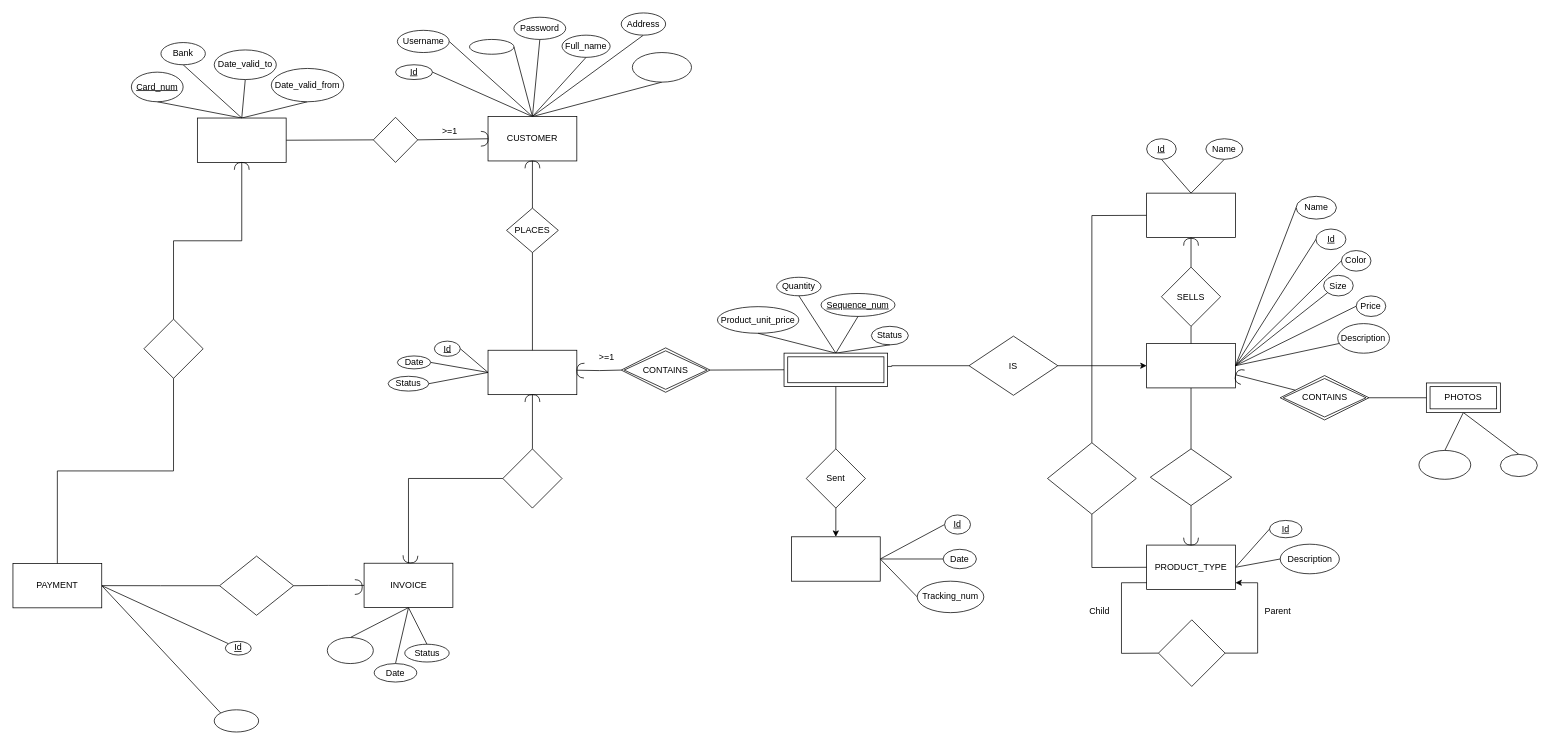
Some shapes in this 1550 by 745 pixel diagram are drawn without their labels. Each missing label, with the centre of its shape:
Amount: (x=236, y=720)
BELONGS_TO: (x=1191, y=477)
CREDIT_CARD: (x=241, y=139)
Email: (x=491, y=46)
HAS: (x=395, y=139)
HIERARCHY: (x=1191, y=652)
ISSUES: (x=532, y=478)
MADE_FOR: (x=256, y=585)
Number: (x=350, y=650)
ORDER: (x=532, y=372)
ORDER_ITEM: (x=835, y=369)
PAY_BY: (x=173, y=348)
Phone_num: (x=662, y=67)
Photo_seq: (x=1444, y=464)
PRODUCT: (x=1190, y=365)
RESTRICTED_TO: (x=1091, y=478)
SHIPMENT: (x=835, y=558)
SHOP: (x=1190, y=215)
Url: (x=1518, y=465)
